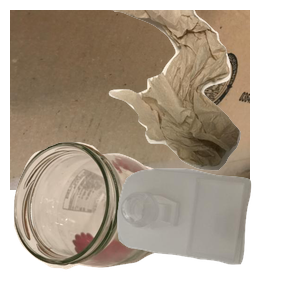cardboard: (10, 10, 250, 190)
glass: (11, 139, 179, 300)
plastic: (115, 166, 300, 300)
trash: (103, 10, 300, 173)
